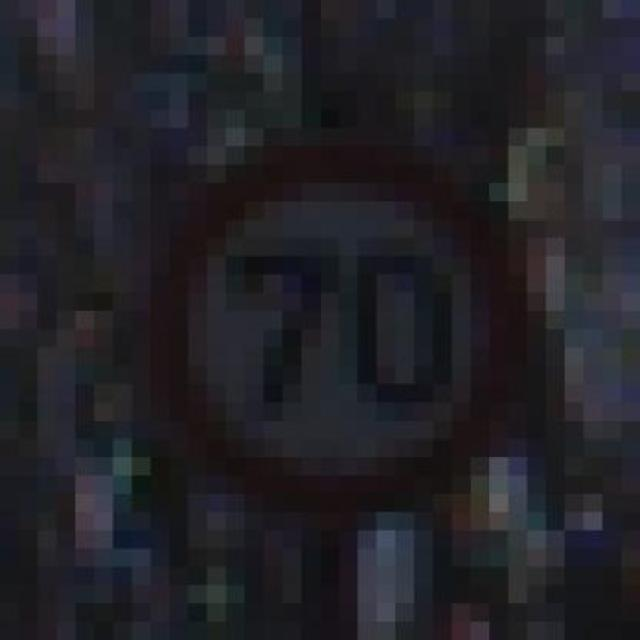forb_speed_over_70: (154, 151, 517, 506)
